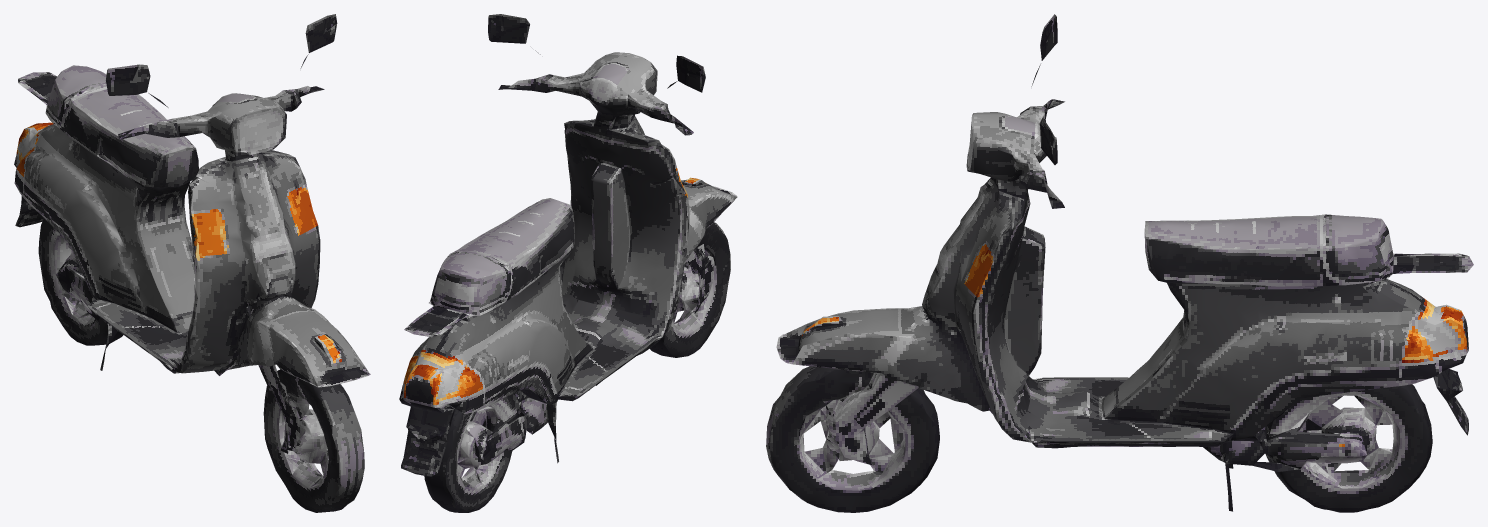
The model's file is scooter.glb.
3 renders of one model, left to right at view 1: azimuth 30°, elevation 25°; view 2: azimuth 150°, elevation 25°; view 3: azimuth 270°, elevation 25°, orthographic. The views are drawn at different scales.
Parts seen in each view (by area): view 1: mesh; view 2: mesh; view 3: mesh.
Part boxes in pixels (x1,y1,x2,y2): mesh: (14, 14, 370, 512); mesh: (399, 14, 737, 512); mesh: (766, 14, 1473, 512).
Size of the model in its own units: 0.6352 by 1.05 by 1.54.
Materials: 1 (1 with a texture image).
